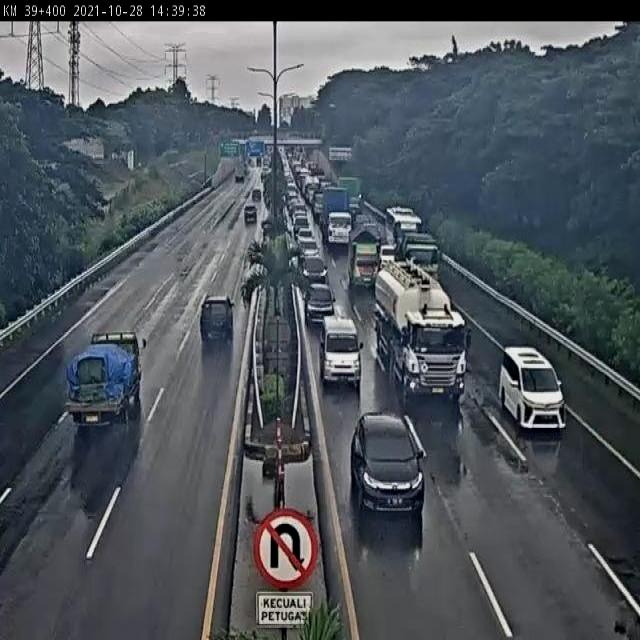Bus: (383, 204, 422, 252)
Car: (349, 413, 427, 534), (499, 348, 566, 437), (302, 284, 337, 329), (300, 254, 329, 287), (298, 238, 320, 260), (244, 204, 258, 225), (292, 217, 309, 234), (296, 228, 314, 244), (251, 188, 262, 203)
Truck: (374, 259, 472, 407), (65, 332, 148, 434), (343, 227, 382, 291), (399, 232, 441, 284), (323, 184, 351, 245), (341, 177, 364, 212)
Van: (320, 320, 364, 386), (201, 295, 235, 347)
